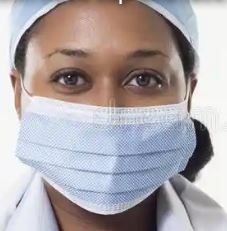with_facemask: (32, 90, 201, 222)
